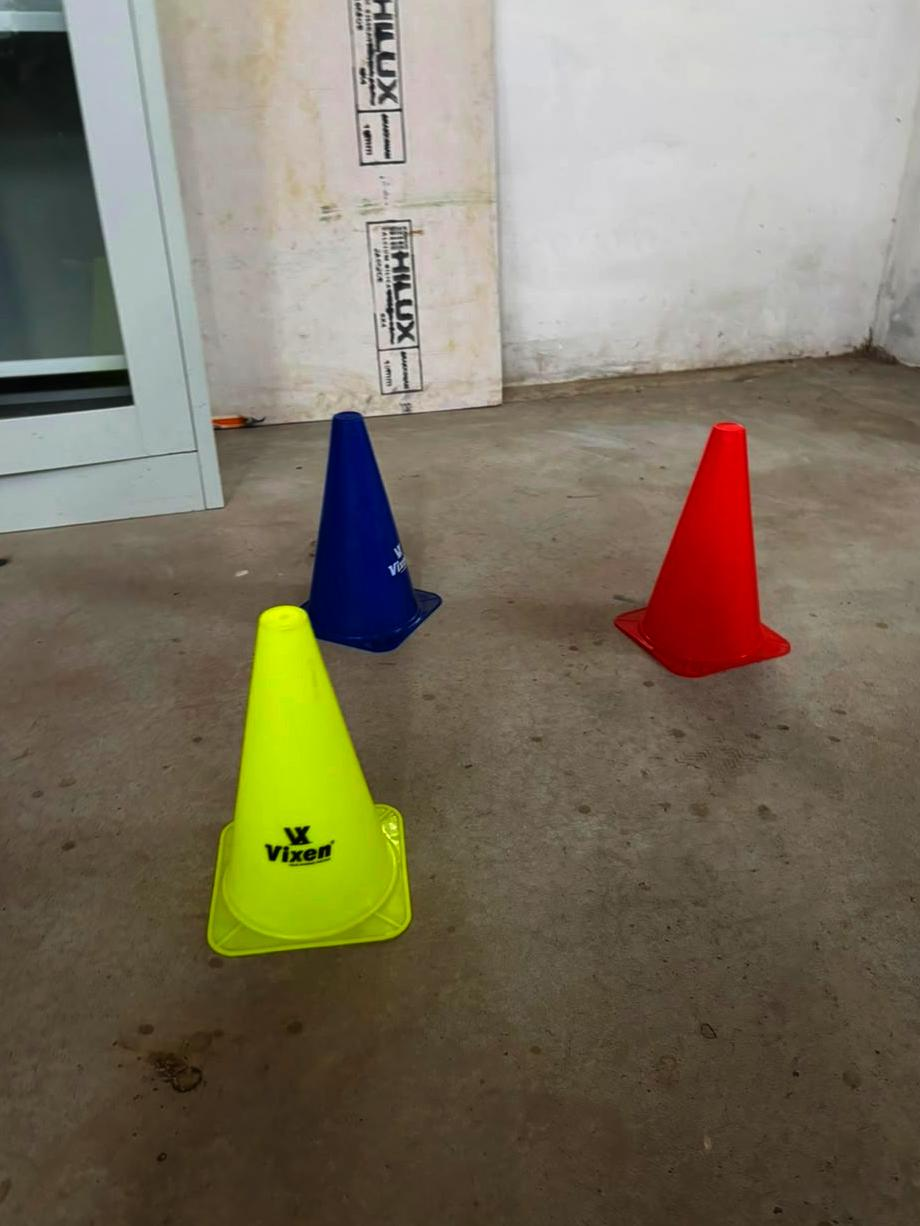0 cone: (208, 412, 440, 956), (615, 423, 788, 674)
